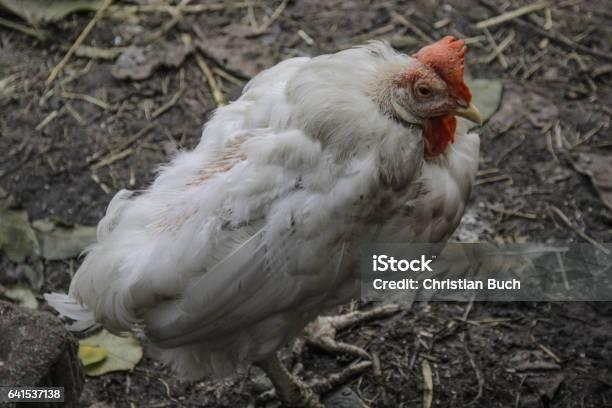AbNormal: (44, 31, 490, 403)
